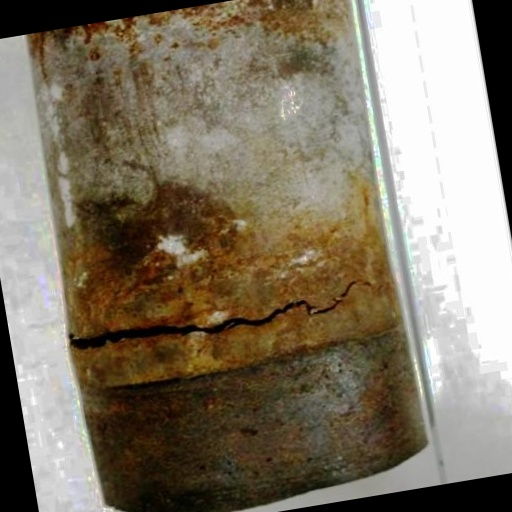crack: (63, 264, 382, 370)
